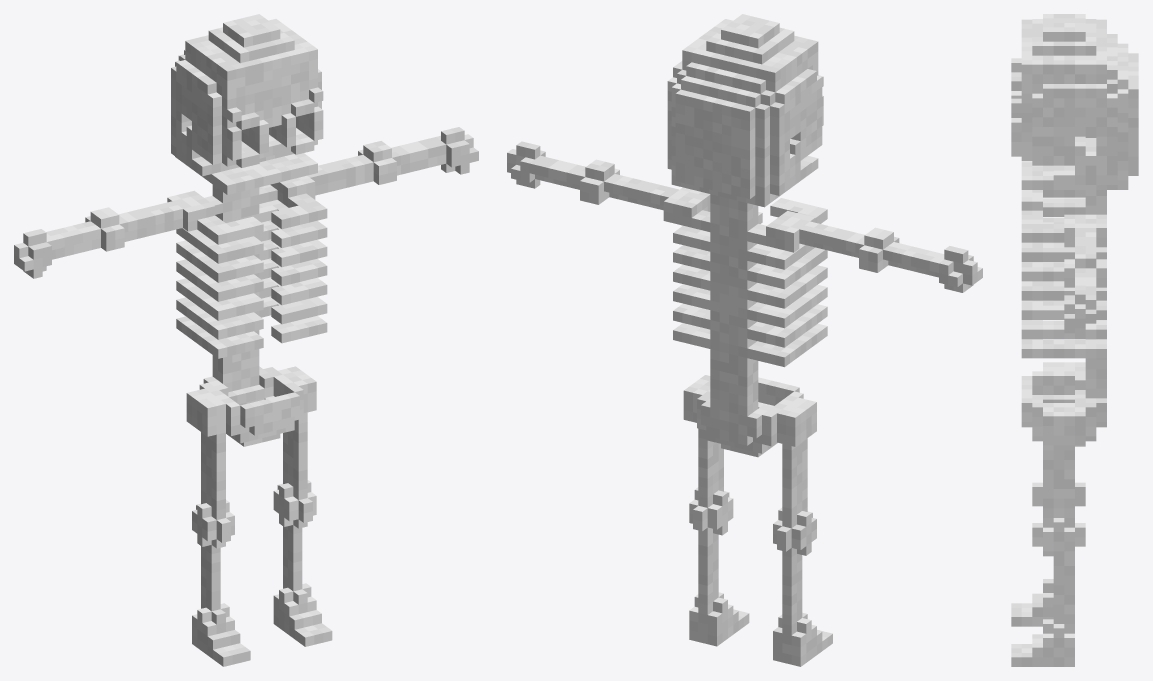
Rendered from skeleton.glb.
3 renders of one model, left to right at view 1: azimuth 30°, elevation 25°; view 2: azimuth 150°, elevation 25°; view 3: azimuth 270°, elevation 25°, orthographic. The views are drawn at different scales.
Parts seen in each view (by area): view 1: Untitled; view 2: Untitled; view 3: Untitled.
Boxes of the visible parts, x1,y1,x2,y2 form: Untitled: (14, 14, 478, 666); Untitled: (507, 14, 982, 666); Untitled: (1011, 14, 1138, 666).
Size of the model in its own units: 5 by 6.4 by 1.2.
Materials: 1 (1 with a texture image).
